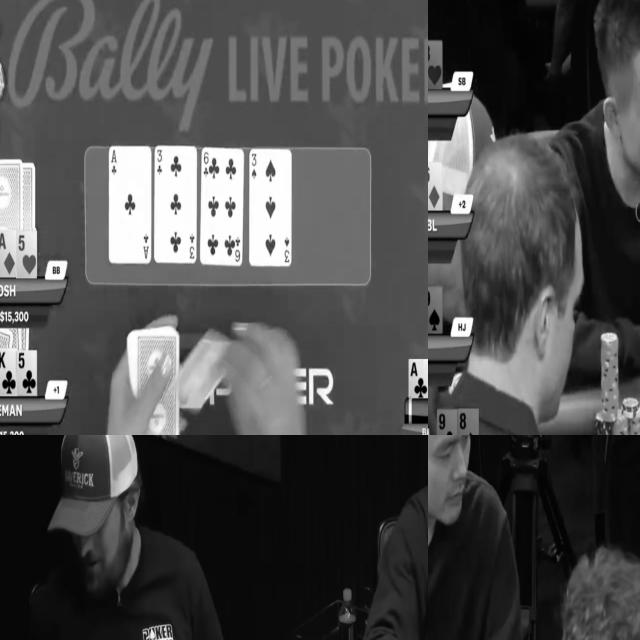5C: (15, 352, 37, 396)
5H: (16, 228, 37, 279)
6D: (428, 162, 441, 211)
8H: (428, 37, 442, 90)
8S: (458, 409, 478, 435)
9C: (436, 409, 457, 435)
9S: (428, 286, 442, 334)
AC: (408, 358, 428, 398)
AD: (0, 230, 17, 277)
KC: (0, 347, 17, 396)
